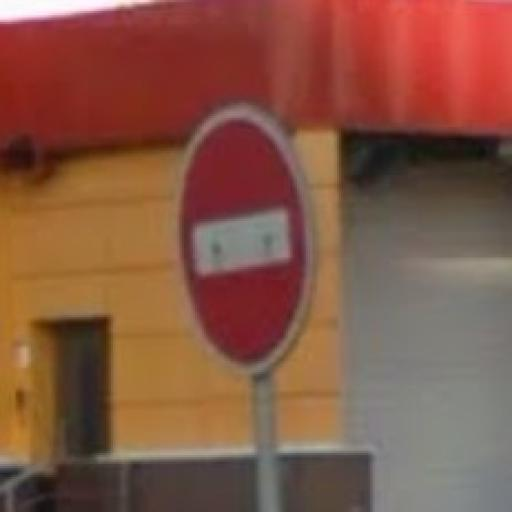traffic_sign: (176, 104, 318, 375)
